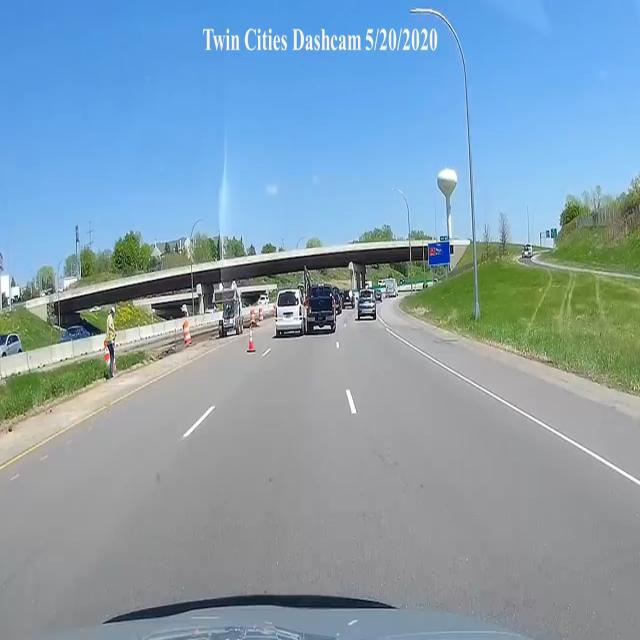Traffic Cone: (247, 334, 260, 355)
